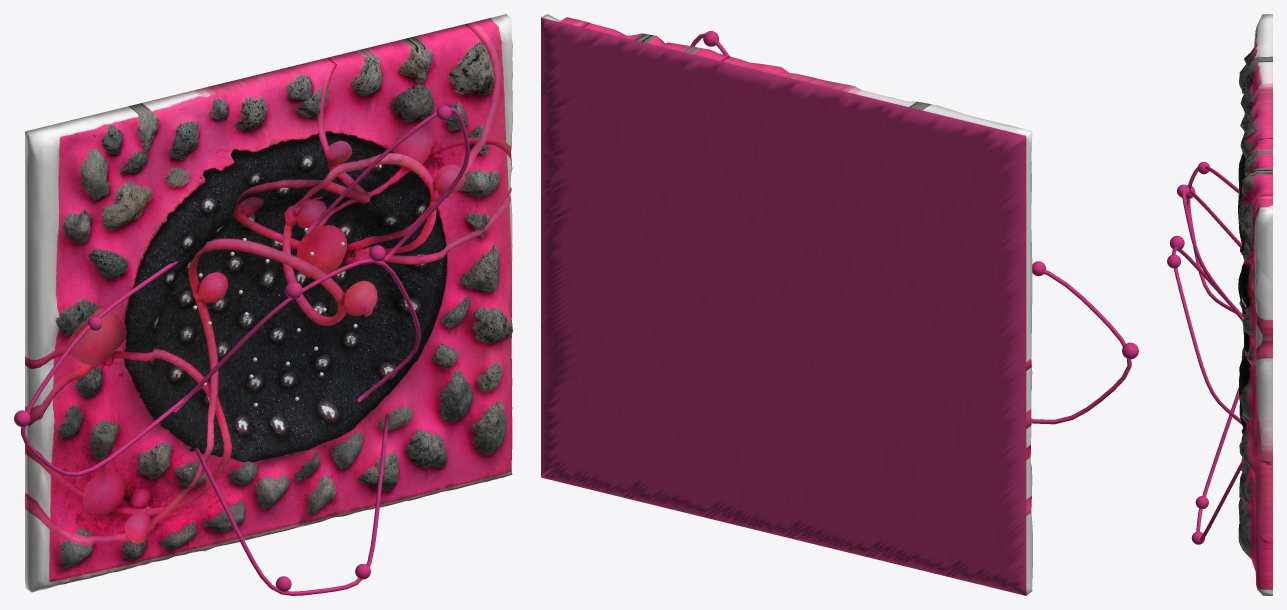
File: escultura-esc-046.glb
3 renders of one model, left to right at view 1: azimuth 30°, elevation 25°; view 2: azimuth 150°, elevation 25°; view 3: azimuth 270°, elevation 25°, orthographic. The views are drawn at different scales.
Visible parts, largest first — view 1: world; view 2: world; view 3: world.
Boxes of the visible parts, left/top/right/bottom form: world: left=14, top=14, right=512, bottom=595; world: left=541, top=14, right=1138, bottom=595; world: left=1167, top=14, right=1272, bottom=595.
Size of the model in its own units: 0.6706 by 0.5822 by 0.135.
Materials: 1 (1 with a texture image).
